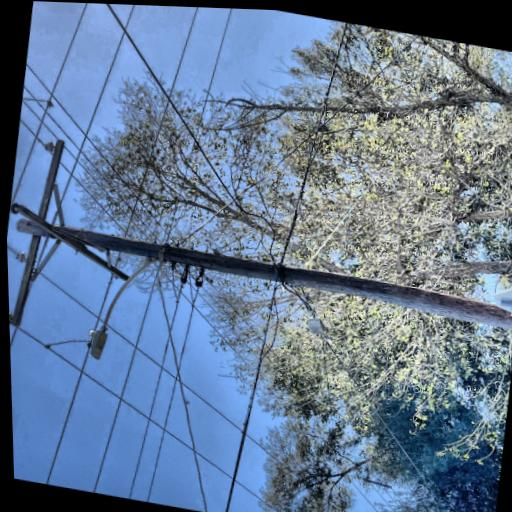insulator: (113, 110, 126, 123), (57, 95, 69, 106), (215, 146, 225, 158)
pole: (71, 110, 172, 499)
street light: (19, 178, 141, 274)
